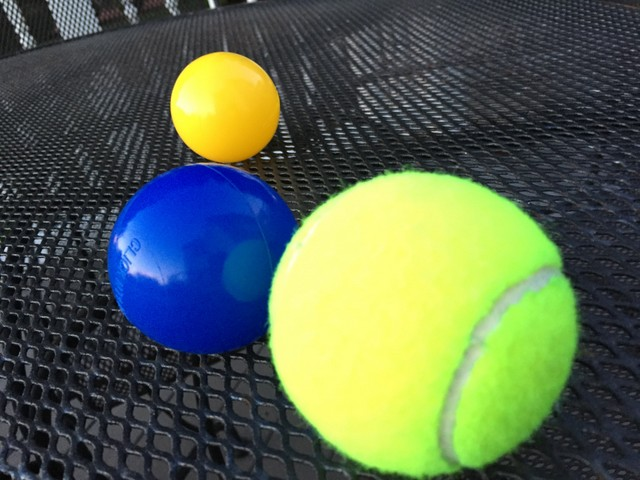Ball: (109, 163, 299, 353)
